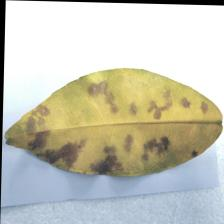black spot: (28, 97, 160, 182)
